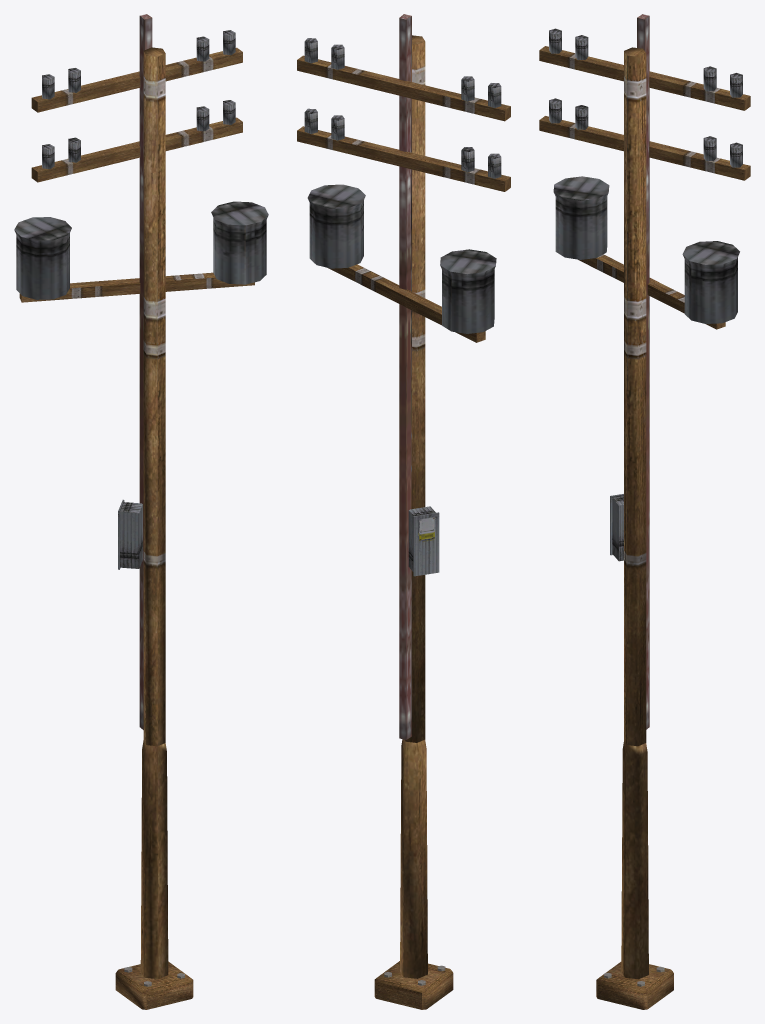
Rendered from Prop_Pole01.glb.
3 views of the same model, side by side, from view 1: azimuth 30°, elevation 25°; view 2: azimuth 150°, elevation 25°; view 3: azimuth 330°, elevation 25° (orthographic).
Parts seen in each view (by area): view 1: xinshou_pole_01; view 2: xinshou_pole_01; view 3: xinshou_pole_01.
Part boxes in pixels (x1=…): xinshou_pole_01: x1=14, y1=14, x2=268, y2=1009; xinshou_pole_01: x1=297, y1=14, x2=510, y2=1009; xinshou_pole_01: x1=539, y1=14, x2=750, y2=1009.
Bounding box in the file's own units: 4.96 × 21.59 × 2.48.
1 material, 1 textured.
